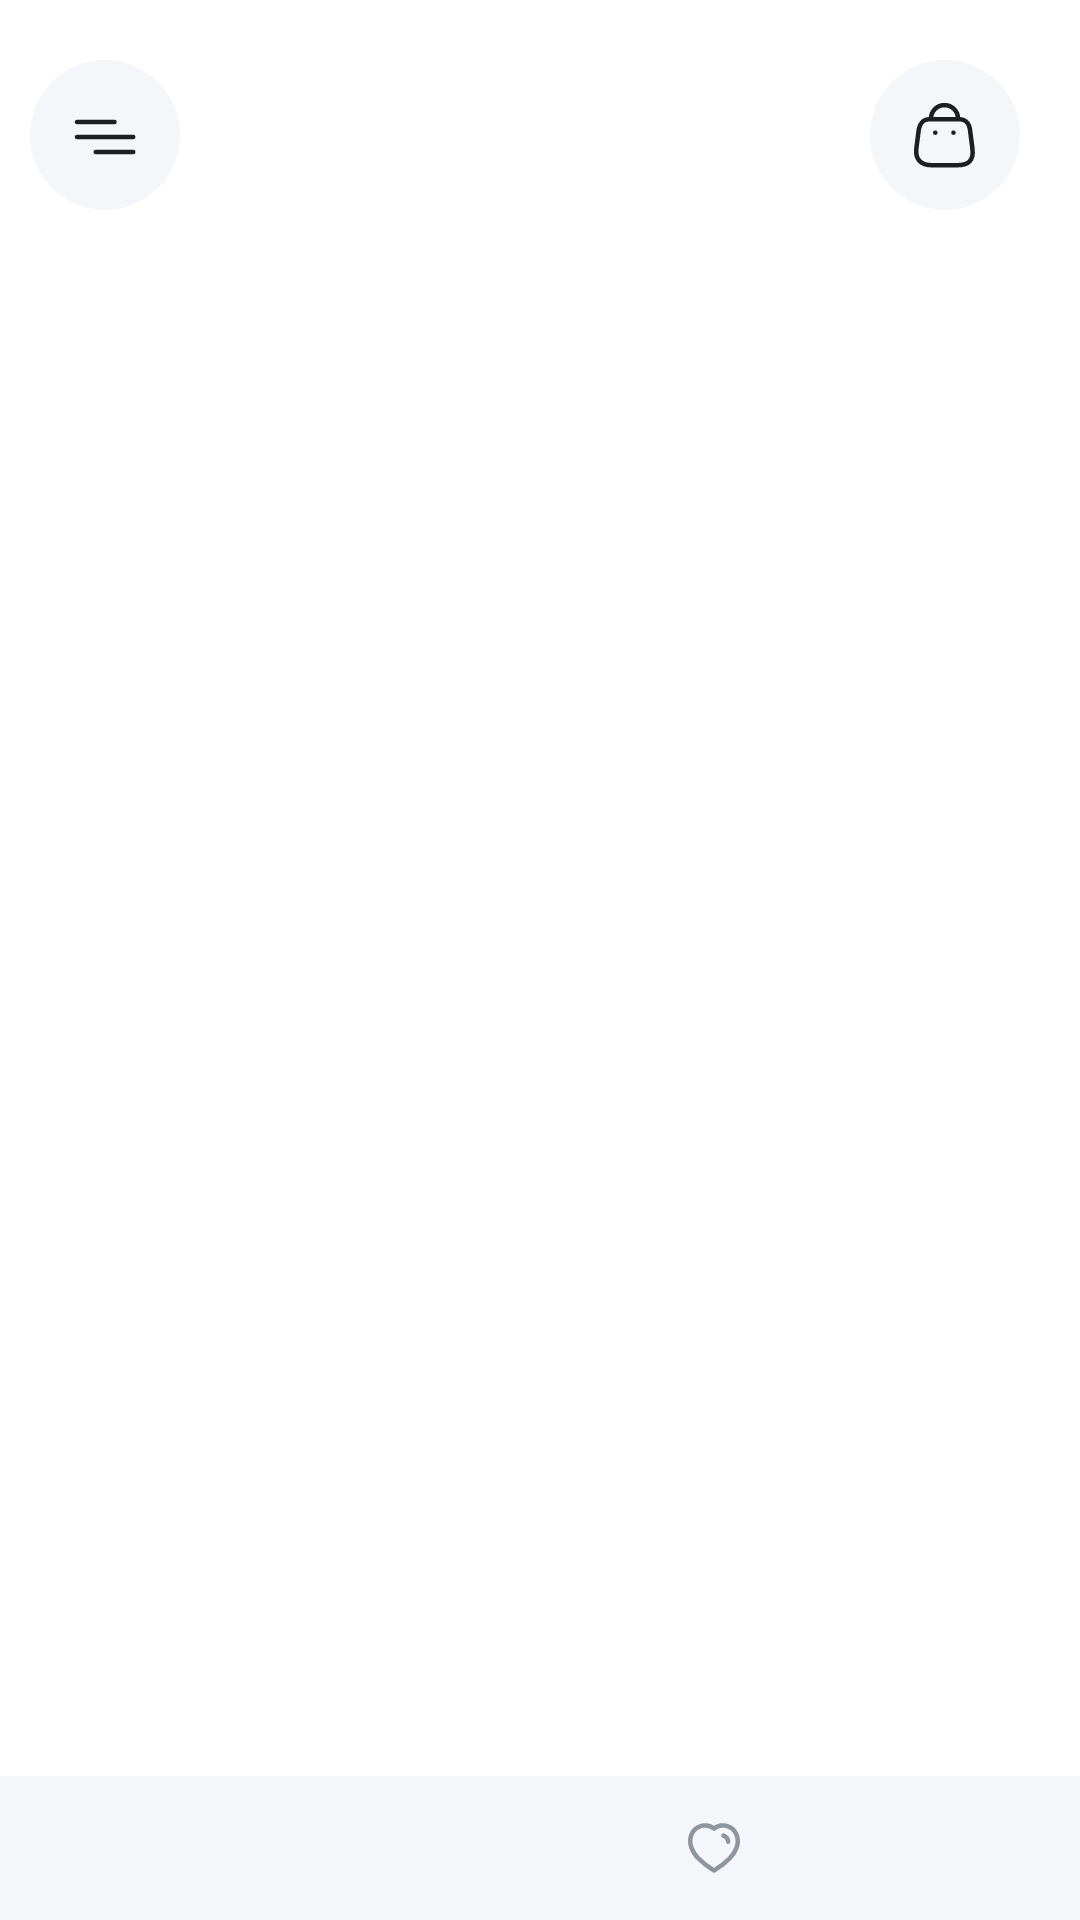

Locate icon controls on the screen. Image size 1080 x 1920, boxes as (x1=x1, y1=y1, x2=x2, y2=y2).
cart: (x1=870, y1=60, x2=1020, y2=210)
favorites: (x1=688, y1=1823, x2=740, y2=1873)
